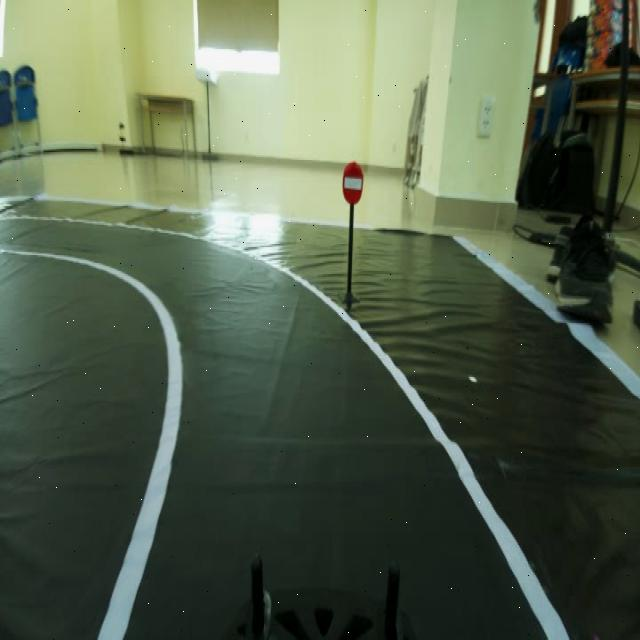no_entry: (338, 153, 369, 216)
